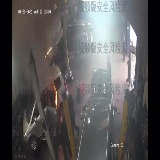fire: (53, 81, 59, 111)
